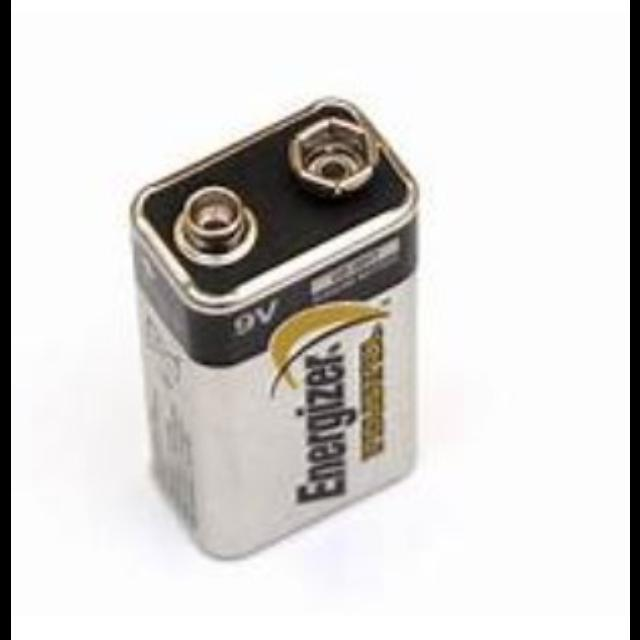Battery: (127, 97, 421, 563)
